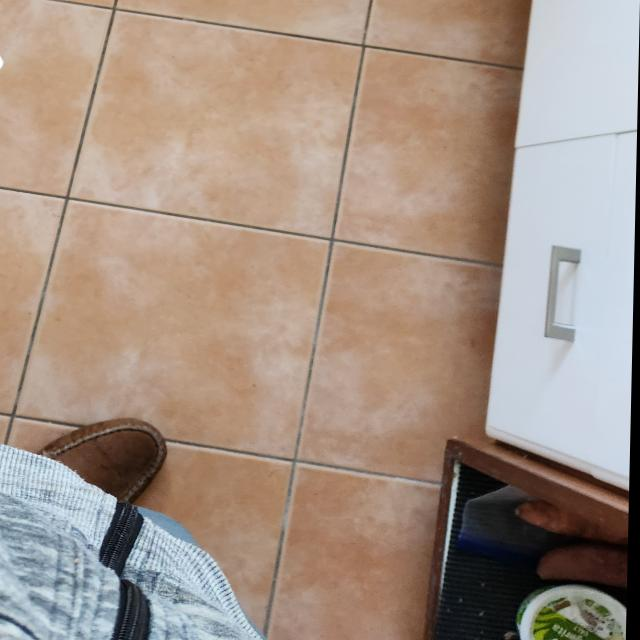salt: (0, 0, 5, 93)
